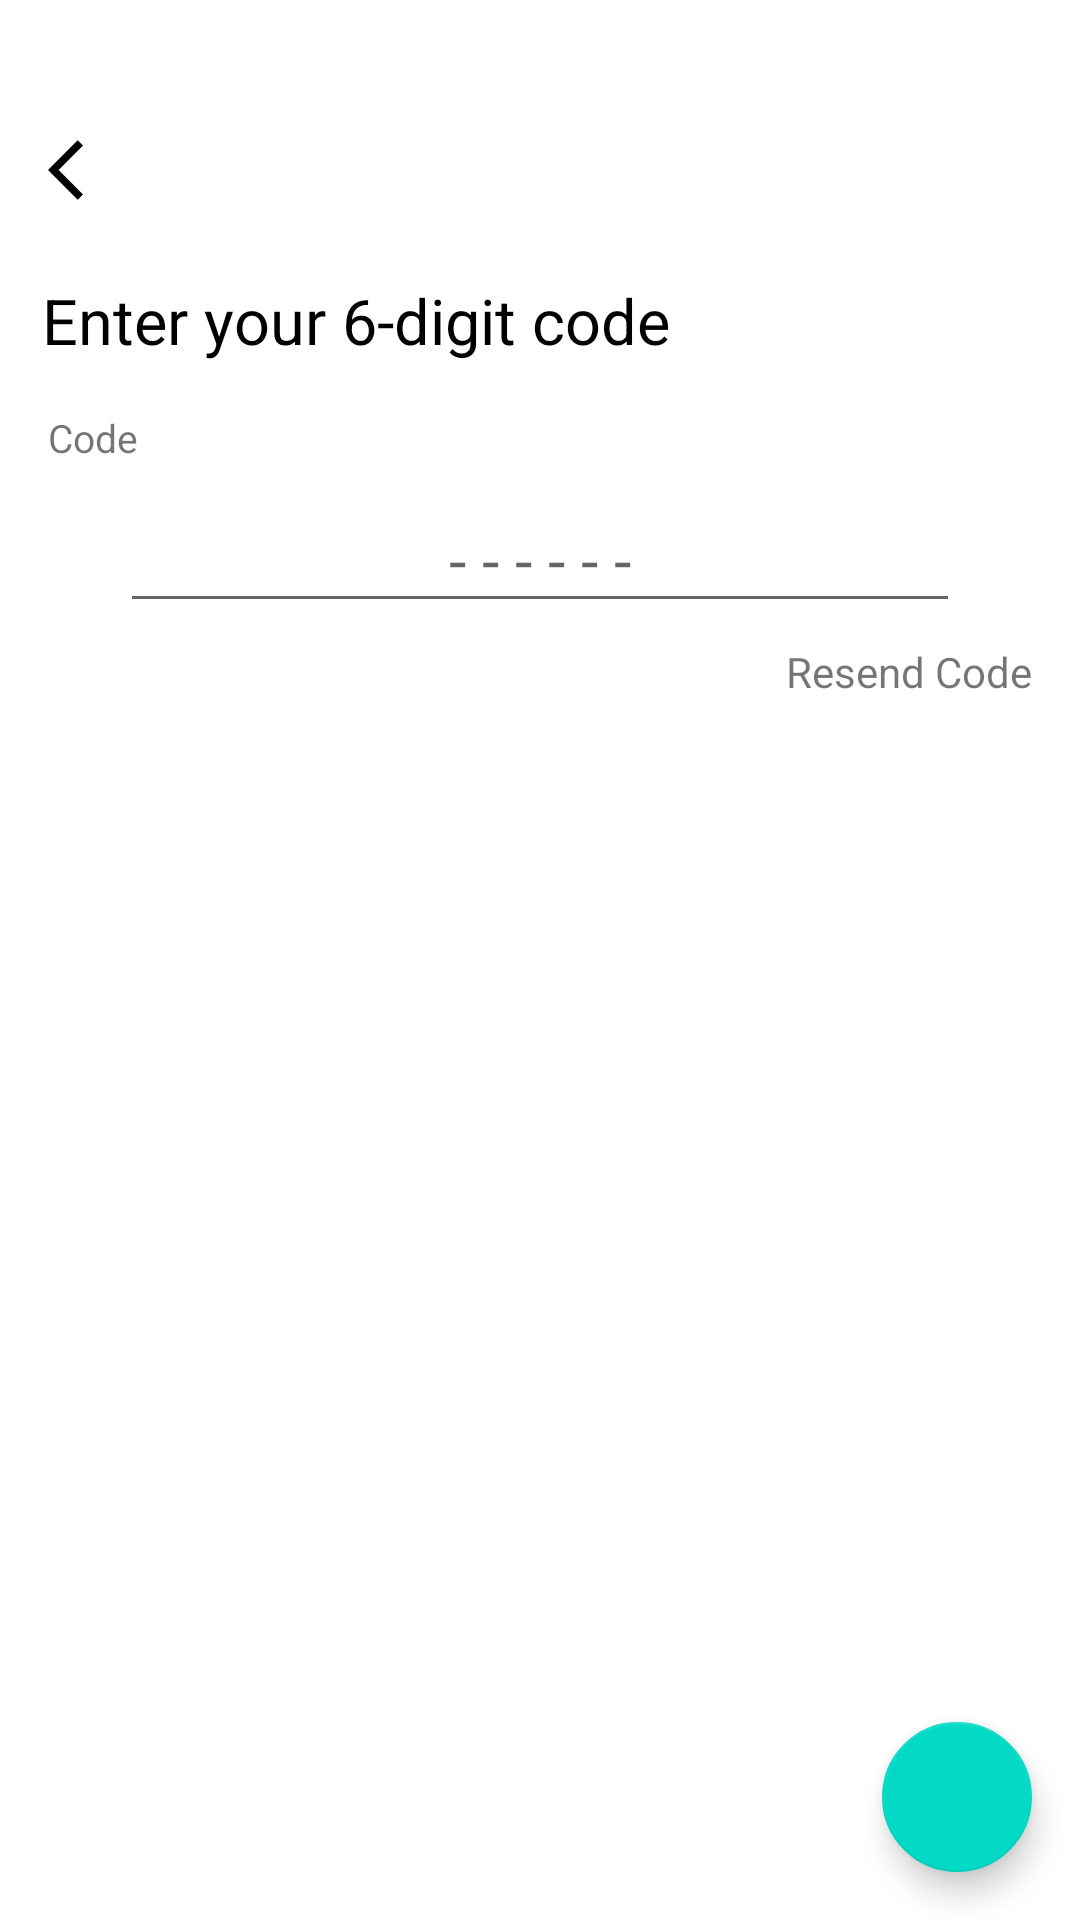

Icons on this 1080px x 1920px Android screen, each with the point to tap as (x=x, y=y):
arrow back: (x=65, y=170)
